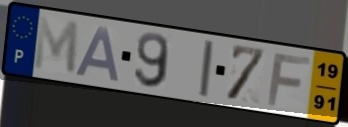7: (227, 43, 267, 103)
9: (133, 31, 172, 90)
A: (72, 24, 122, 84)
F: (265, 52, 313, 108)
I: (197, 38, 216, 99)
M: (32, 14, 81, 78)
